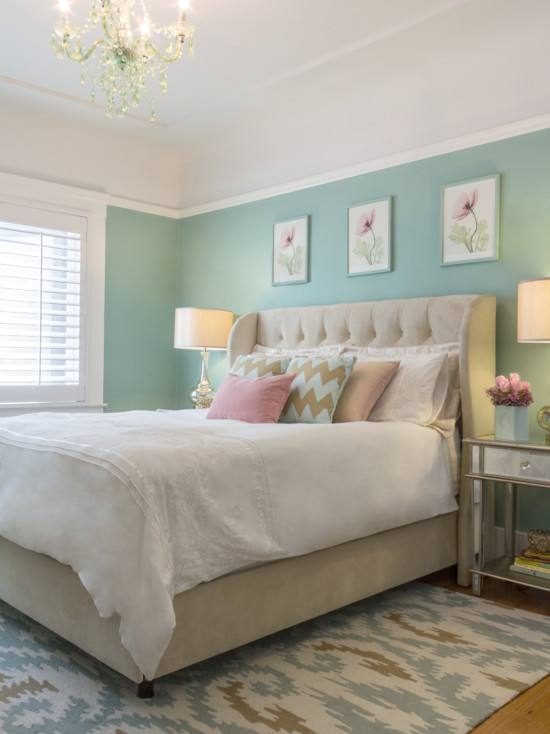床: (6, 409, 445, 675)
枕头: (202, 329, 455, 421)
灯: (52, 0, 202, 123), (165, 303, 237, 408), (511, 279, 550, 351)
